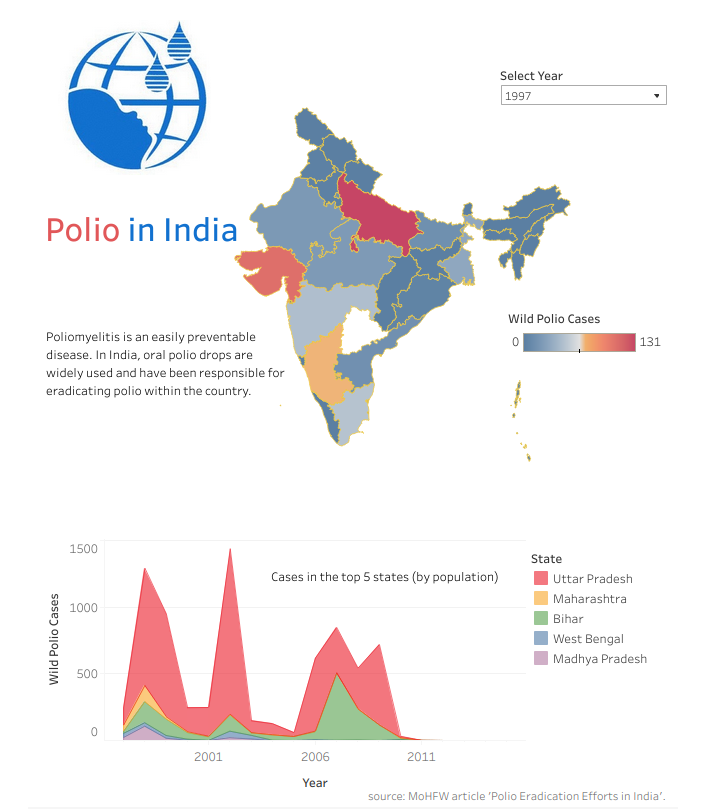

Layout of this report page (visuals, bound fields, positions):
{"tool":"tableau","page":{"name":"polio-india-dashboard","canvas":[650,860],"ordinal":0},"visuals":[{"type":"worksheet","title":"map","mark":"Automatic","box":[103,16,543,585.9]},{"type":"image","param":"Image/pulse-polio-logo.jpg","box":[30,41.2,153,174.3]},{"type":"filter","title":"map","param":"[federated.0hyjjj308h68jf1420vhs0jfzcmd].[yr:Year:ok]","box":[472,89.9,168,75.4]},{"type":"text","box":[17,209.2,224,96.1]},{"type":"legend","title":"map","param":"[federated.0hyjjj308h68jf1420vhs0jfzcmd].[sum:Polio-Cases:qk]","box":[480,342.3,158,76.9]},{"type":"text","box":[18,344.4,243,107.8]},{"type":"worksheet","title":"trend","mark":"Area","rows":["Polio-Cases"],"cols":["Year"],"box":[9,565.6,489,284.2]},{"type":"legend","title":"trend","param":"[federated.0hyjjj308h68jf1420vhs0jfzcmd].[none:State:nk]","box":[503,591.7,140,188.5]},{"type":"text","box":[243,597.5,248,43.5]}]}

Visuals, with their boxes on the page's 650x860 design canvas (x1, y1, x2, y2). These are canvas units, not pixel positions in the 701x809 screenshot, which may show the page scaled, cropped or inside an application window:
"map" worksheet: select_region(103, 16, 646, 602)
image: select_region(30, 41, 183, 216)
"map" filter: select_region(472, 90, 640, 165)
text: select_region(17, 209, 241, 305)
"map" legend: select_region(480, 342, 638, 419)
text: select_region(18, 344, 261, 452)
"trend" worksheet (Area marks): select_region(9, 566, 498, 850)
"trend" legend: select_region(503, 592, 643, 780)
text: select_region(243, 598, 491, 641)
